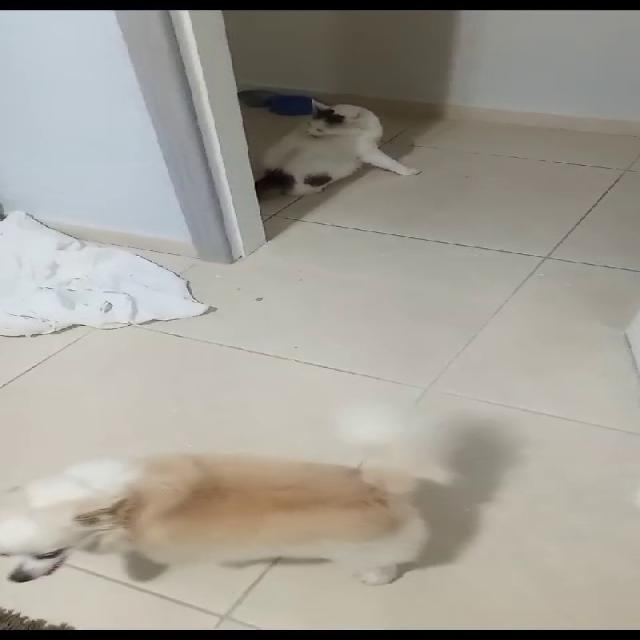Simba: (238, 94, 426, 203)
Theo: (9, 449, 453, 616)
